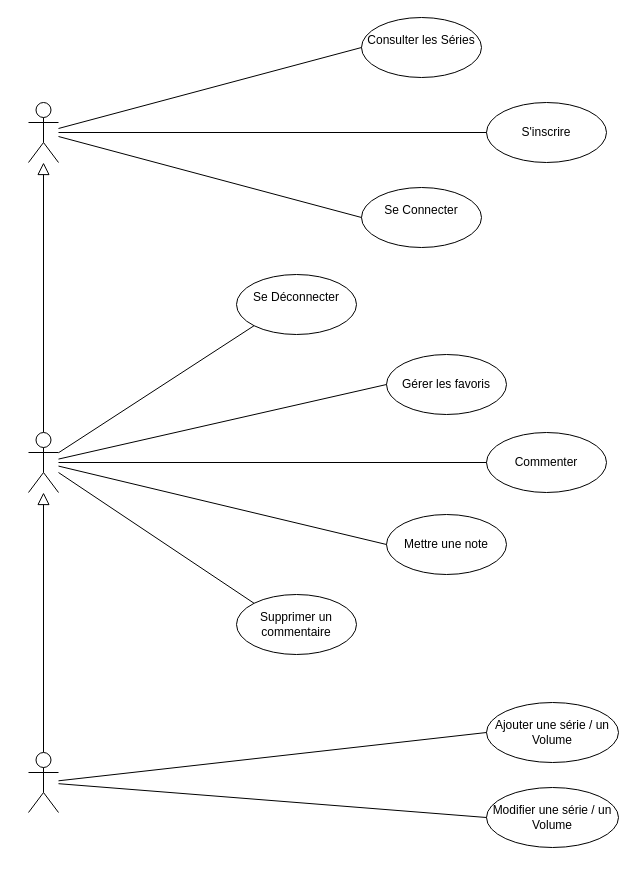
The diagram is 636 pixels wide and 871 high, and some of its shapes have lost their labels. Here are the shapes that lost their labels. From the top down, the centre of each, then its label:
At (x=43, y=132): "Visiteur".
At (x=43, y=462): "Utilisateur".
At (x=43, y=782): "Admin".
